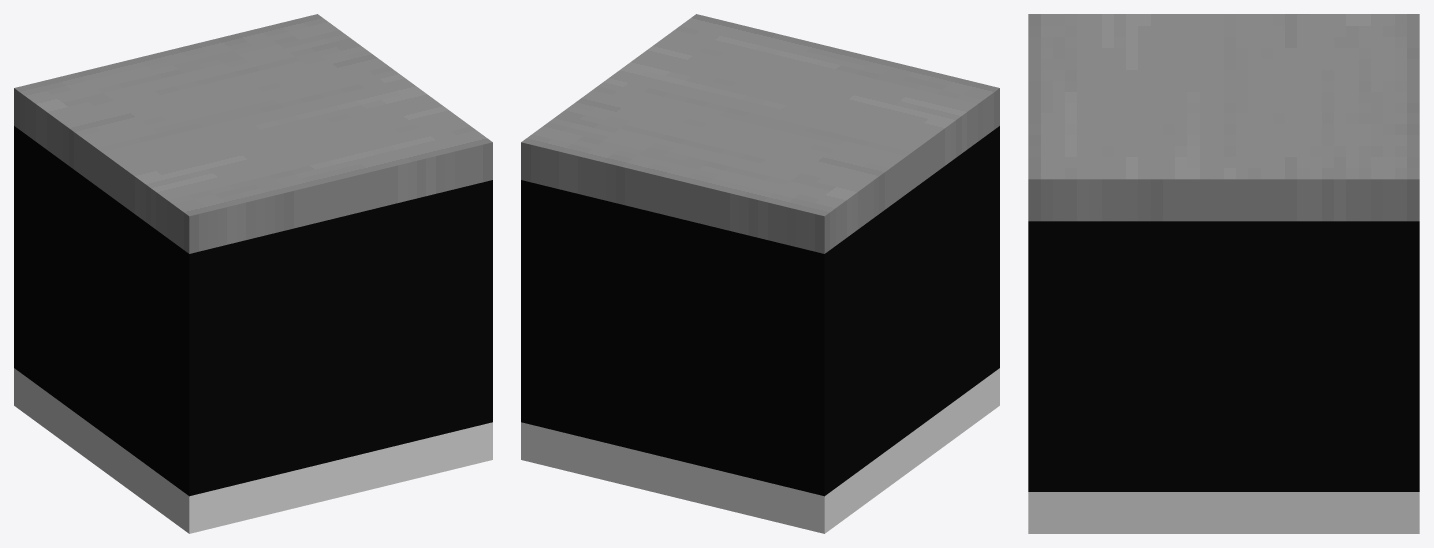
The model's file is floor.fbx.
The picture shows the model from 3 angles, left to right: view 1: azimuth 30°, elevation 25°; view 2: azimuth 150°, elevation 25°; view 3: azimuth 270°, elevation 25°; orthographic projection. The views are drawn at different scales.
Visible parts, largest first — view 1: Plane.003; view 2: Plane.003; view 3: Plane.003.
Part boxes in pixels (left/top/right/bottom): Plane.003: left=14, top=14, right=492, bottom=533; Plane.003: left=521, top=14, right=999, bottom=533; Plane.003: left=1028, top=14, right=1419, bottom=533.
Bounding box in the file's own units: 1 × 1 × 1.
